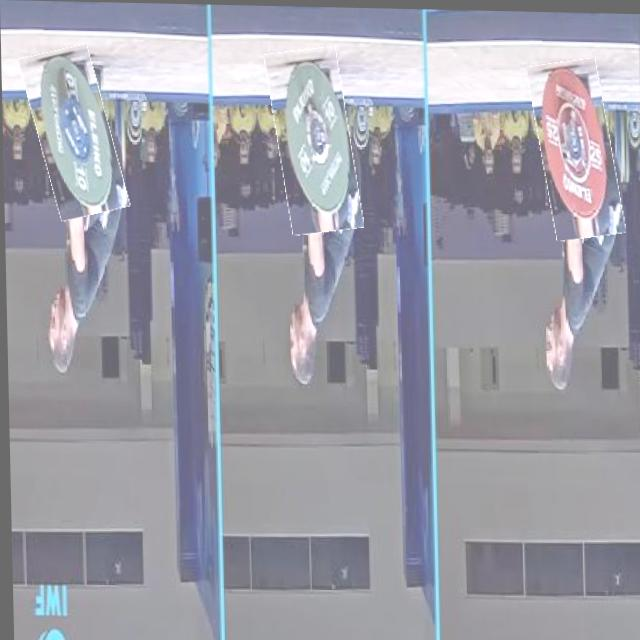barbell: (271, 47, 358, 234), (28, 46, 121, 220), (533, 57, 620, 239)
